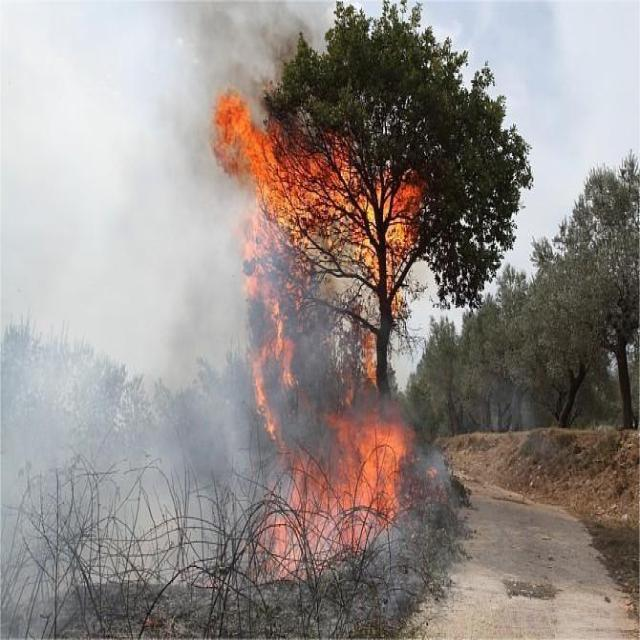Fire: (210, 94, 425, 298), (336, 417, 406, 526), (250, 300, 294, 444)
